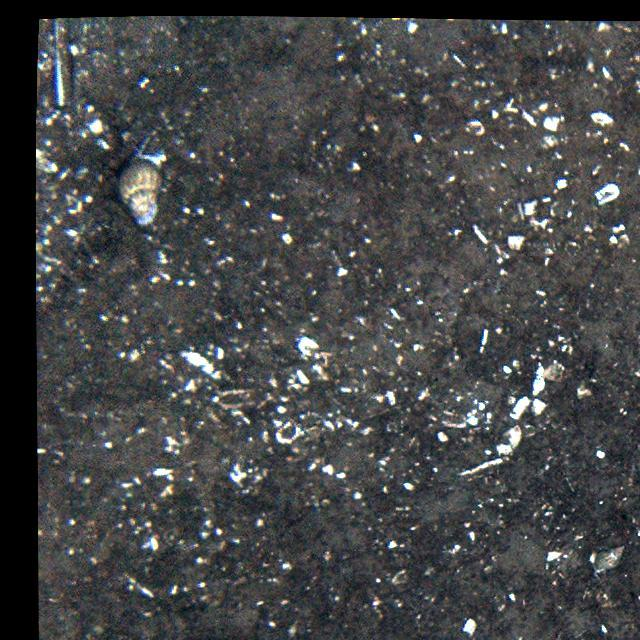whelk: (114, 154, 163, 233)
